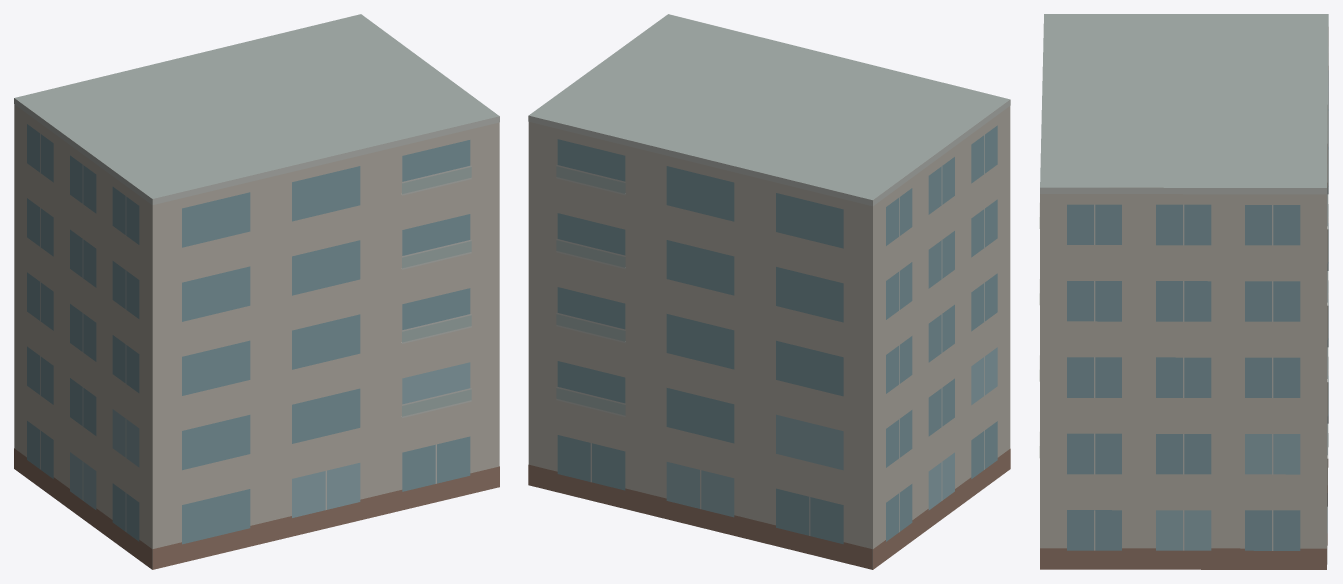
File: survey-upis-32877388.glb
3 renders of one model, left to right at view 1: azimuth 30°, elevation 25°; view 2: azimuth 150°, elevation 25°; view 3: azimuth 270°, elevation 25°, orthographic. The views are drawn at different scales.
Visible parts, largest first — view 1: survey-upis-32877388.tmp; view 2: survey-upis-32877388.tmp; view 3: survey-upis-32877388.tmp.
Part boxes in pixels (x1,y1,x2,y2): survey-upis-32877388.tmp: (14,14,499,569); survey-upis-32877388.tmp: (528,14,1010,569); survey-upis-32877388.tmp: (1039,14,1328,569).
Size of the model in its own units: 14.38 by 14.7 by 10.1.
